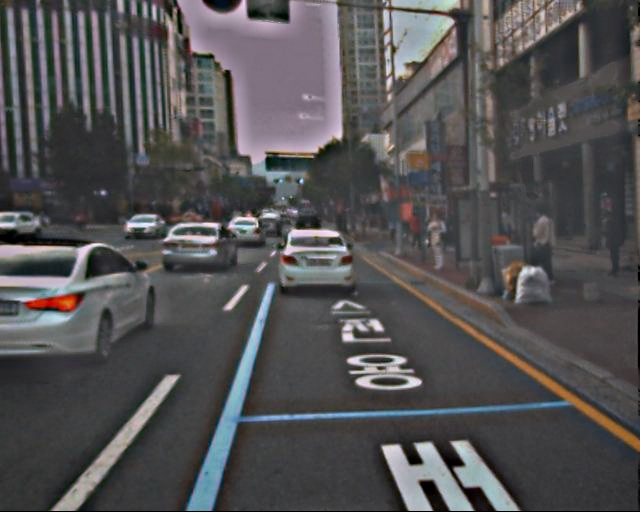person: (524, 206, 557, 286), (596, 205, 626, 278), (424, 210, 451, 275), (407, 209, 425, 252)
